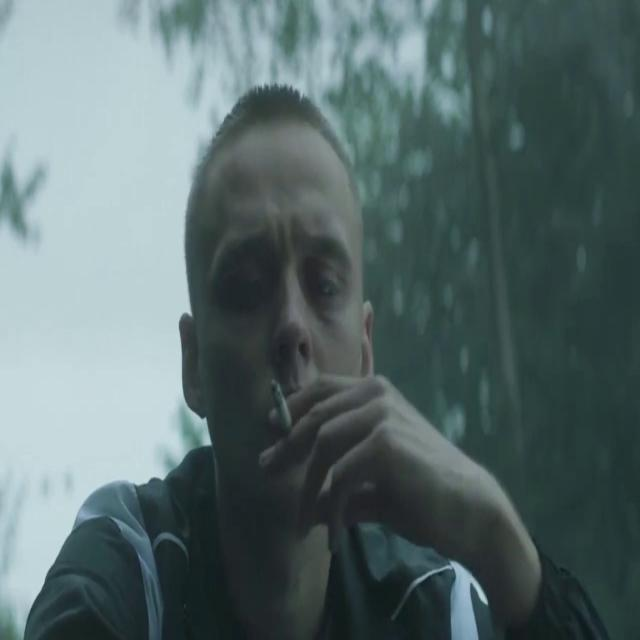Smooking: (262, 353, 298, 430)
